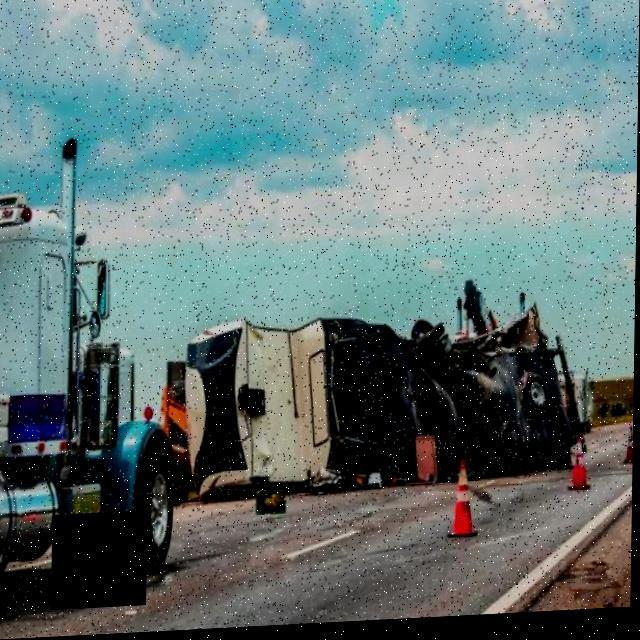single accident: (134, 264, 619, 513)
